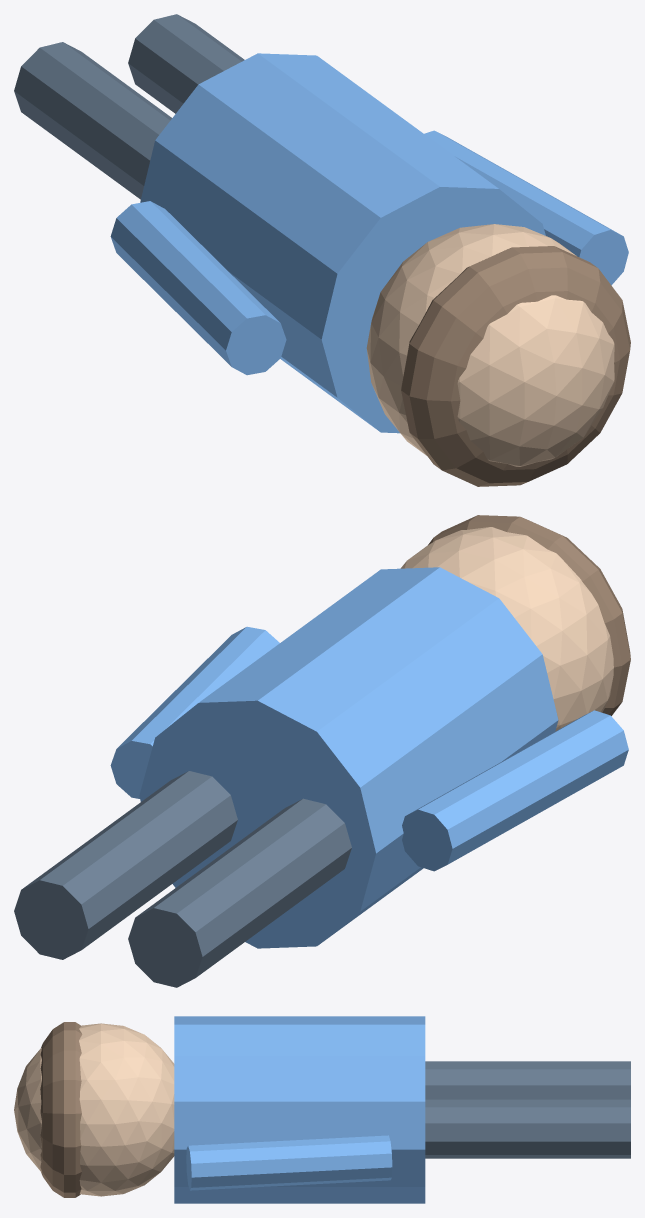
Rendered from passenger.glb.
3 renders of one model, top to bottom at view 1: azimuth 30°, elevation 25°; view 2: azimuth 150°, elevation 25°; view 3: azimuth 270°, elevation 25°, orthographic. The views are drawn at different scales.
Parts seen in each view (by area): view 1: passenger_torso, passenger_head, passenger_hair, arm_0, leg_0, leg_1, arm_1; view 2: passenger_torso, leg_0, leg_1, passenger_head, arm_0, arm_1, passenger_hair; view 3: passenger_torso, passenger_head, leg_1, arm_1, leg_0, passenger_hair.
Part boxes in pixels (x1,y1,x2,y2): passenger_torso: [140, 53, 545, 433]; passenger_head: [366, 224, 614, 466]; passenger_hair: [401, 246, 630, 486]; arm_0: [110, 201, 286, 375]; leg_0: [14, 42, 171, 199]; leg_1: [128, 14, 244, 113]; arm_1: [424, 130, 628, 285]; passenger_torso: [139, 567, 558, 948]; leg_0: [128, 798, 351, 987]; leg_1: [14, 771, 237, 959]; passenger_head: [400, 527, 613, 731]; arm_0: [402, 710, 628, 871]; arm_1: [110, 626, 279, 798]; passenger_hair: [428, 515, 630, 715]; passenger_torso: [174, 1016, 425, 1203]; passenger_head: [14, 1023, 174, 1196]; leg_1: [425, 1099, 630, 1158]; arm_1: [186, 1135, 392, 1190]; leg_0: [425, 1061, 630, 1099]; passenger_hair: [40, 1022, 82, 1197].
Size of the model in its own units: 0.9185 by 0.54 by 1.77.
